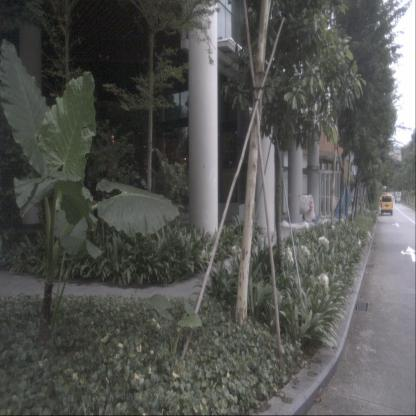vehicle-car: (380, 194, 393, 216)
vehicle-truck: (394, 192, 402, 204)
